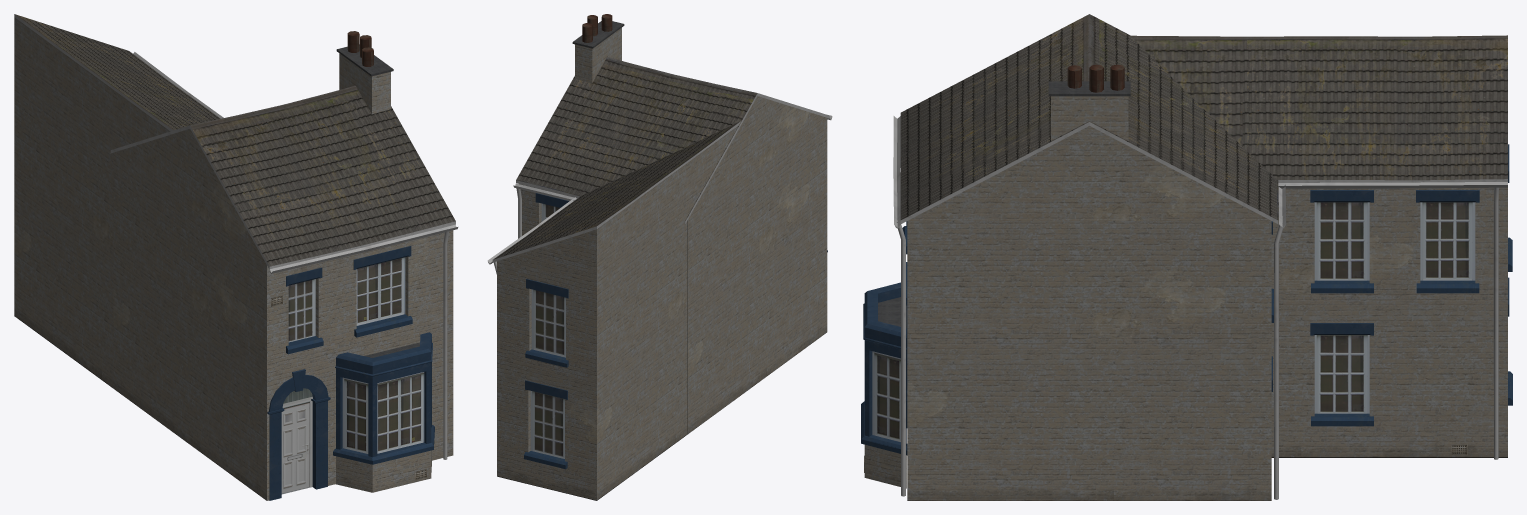
The model's file is ukterracedvictorian12.FBX.
The picture shows the model from 3 angles, left to right: view 1: azimuth 30°, elevation 25°; view 2: azimuth 150°, elevation 25°; view 3: azimuth 270°, elevation 25°; orthographic projection. The views are drawn at different scales.
Parts seen in each view (by area): view 1: Object003; view 2: Object003; view 3: Object003.
Part boxes in pixels (box(x1,y1,x2,y2)): Object003: box(14, 14, 458, 500); Object003: box(487, 14, 832, 500); Object003: box(861, 14, 1512, 500).
Size of the model in its own units: 560 by 1041 by 1431.
